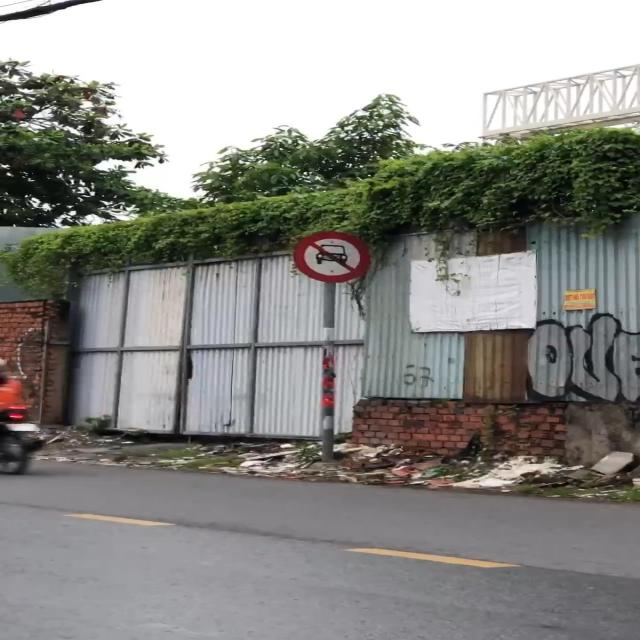Bien bao cam xe oto: (288, 228, 370, 285)
